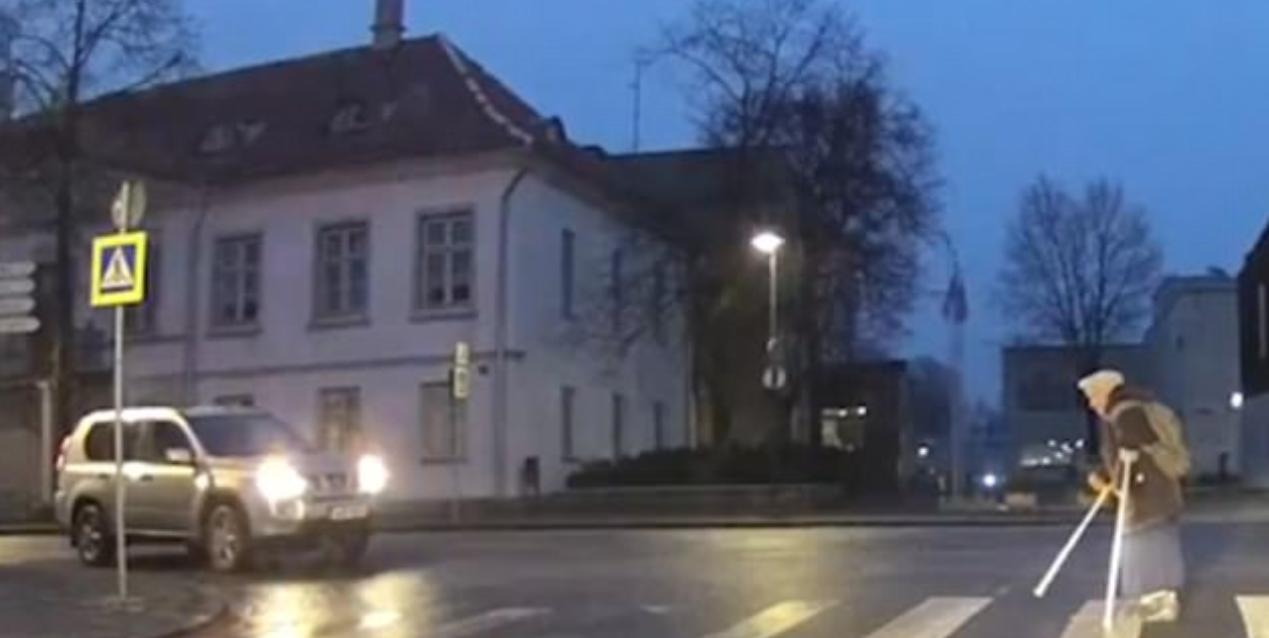crutches: (1032, 370, 1192, 631)
